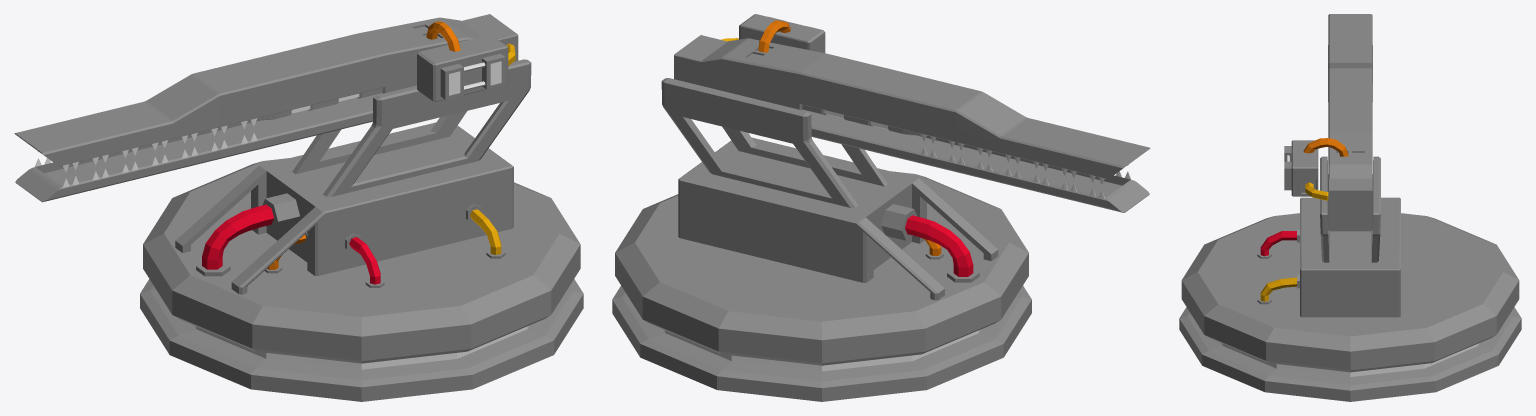
Rendered from Turret.fbx.
3 renders of one model, left to right at view 1: azimuth 30°, elevation 25°; view 2: azimuth 150°, elevation 25°; view 3: azimuth 270°, elevation 25°, orthographic. The views are drawn at different scales.
Parts seen in each view (by area): view 1: Chasi, Turret, Base; view 2: Chasi, Turret, Base; view 3: Chasi, Turret, Base.
Part boxes in pixels (x1,y1,x2,y2): Chasi: (143,59,580,363); Turret: (14,14,518,202); Base: (140,279,583,401); Chasi: (615,78,1028,365); Turret: (674,14,1150,212); Base: (612,285,1031,401); Chasi: (1181,156,1519,372); Turret: (1284,14,1372,231); Base: (1179,307,1521,401).
Bounding box in the file's own units: 250 × 127 × 183.
